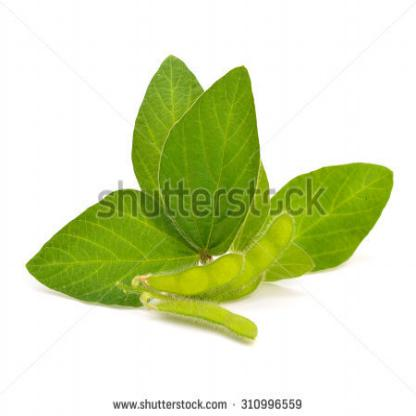Soyabean leaf: (24, 187, 199, 308), (160, 65, 266, 258), (236, 160, 395, 278), (128, 52, 207, 242)
